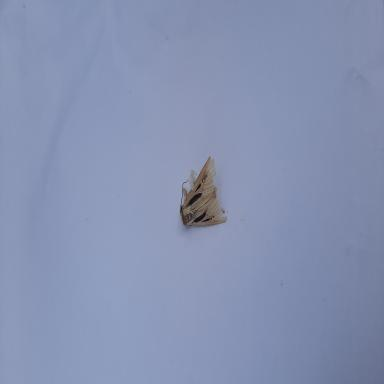abw: (179, 156, 227, 227)
